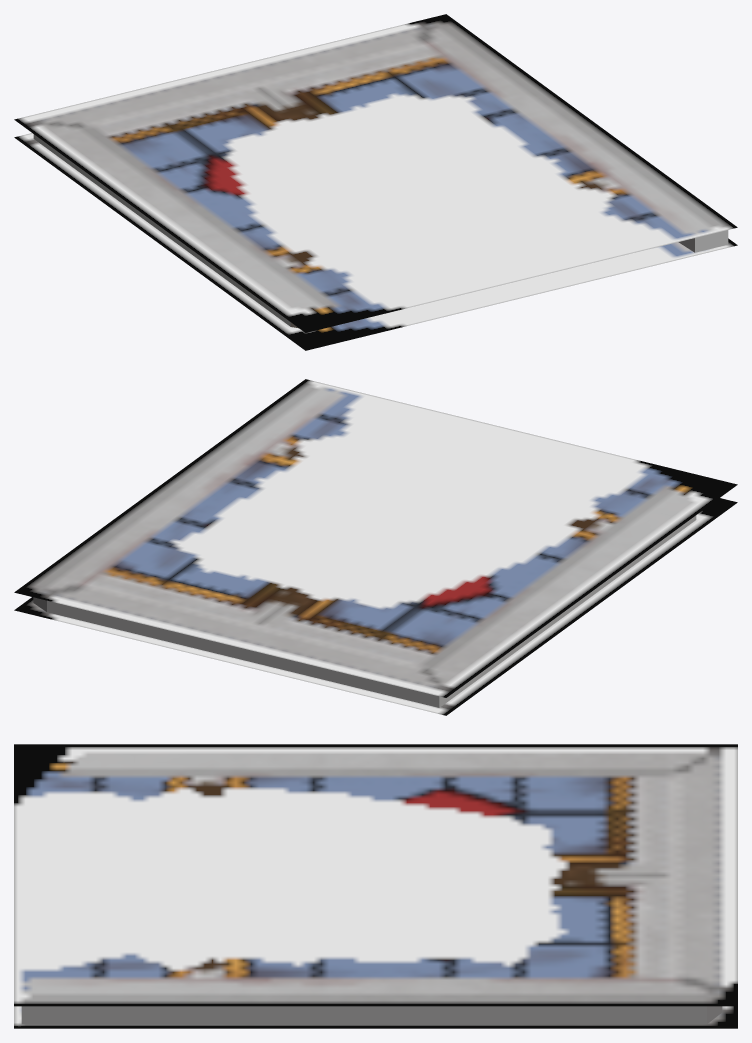
File: pz_native_location_community_church_small_01_255_frame.obj
3 views of the same model, one above another, from view 1: azimuth 30°, elevation 25°; view 2: azimuth 150°, elevation 25°; view 3: azimuth 270°, elevation 25° (orthographic). The views are drawn at different scales.
Visible parts, largest first — view 1: pz_native_location_community_church_small_01_255_frame; view 2: pz_native_location_community_church_small_01_255_frame; view 3: pz_native_location_community_church_small_01_255_frame.
Part boxes in pixels (bbox=[...]): pz_native_location_community_church_small_01_255_frame: bbox=[14, 14, 737, 350]; pz_native_location_community_church_small_01_255_frame: bbox=[14, 379, 737, 715]; pz_native_location_community_church_small_01_255_frame: bbox=[14, 744, 737, 1028].
Bounding box in the file's own units: 1.02 × 0.04 × 1.19.
Materials: 1 (1 with a texture image).
